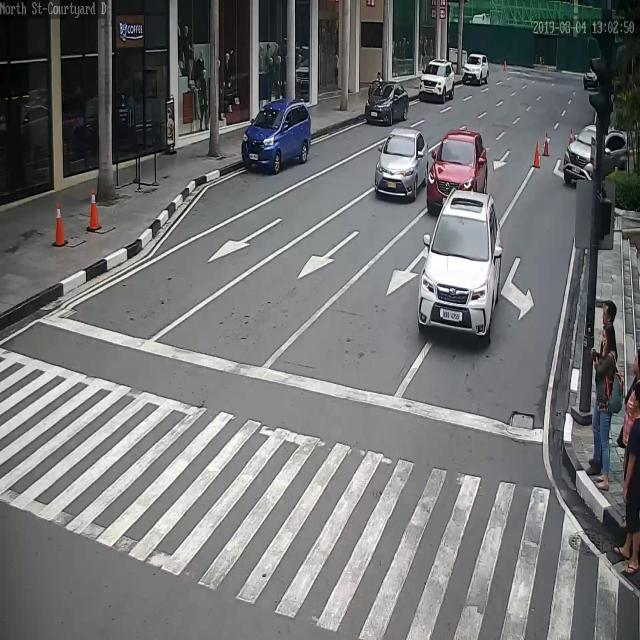car: (418, 191, 503, 337), (240, 98, 311, 176), (427, 128, 489, 207), (374, 129, 430, 203), (564, 127, 632, 186), (365, 81, 410, 127), (417, 59, 454, 106), (460, 53, 489, 86), (583, 67, 604, 90)
